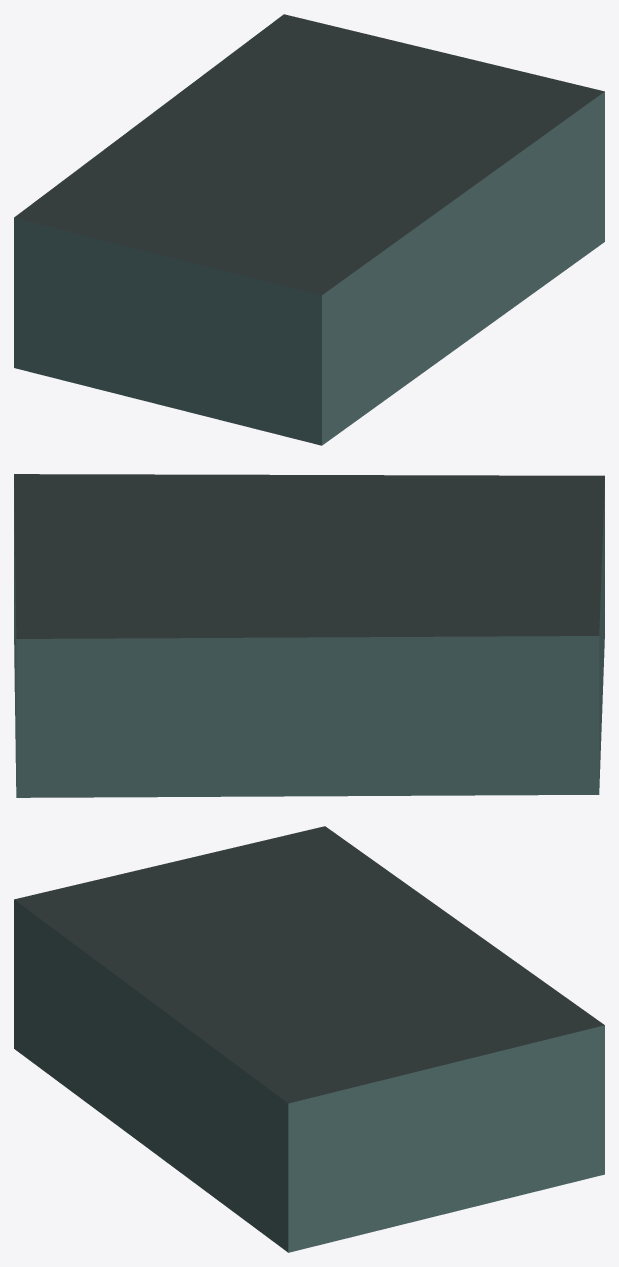
Rendered from nyc-1090169-0.glb.
The picture shows the model from 3 angles, top to bottom: view 1: azimuth 30°, elevation 25°; view 2: azimuth 150°, elevation 25°; view 3: azimuth 270°, elevation 25°; orthographic projection. The views are drawn at different scales.
Parts seen in each view (by area): view 1: nyc-1090169-0; view 2: nyc-1090169-0; view 3: nyc-1090169-0.
Boxes of the visible parts, x1,y1,x2,y2 form: nyc-1090169-0: (14, 14, 604, 445); nyc-1090169-0: (14, 474, 604, 797); nyc-1090169-0: (14, 826, 604, 1252).
Bounding box in the file's own units: 12.15 × 3.05 × 10.94.
